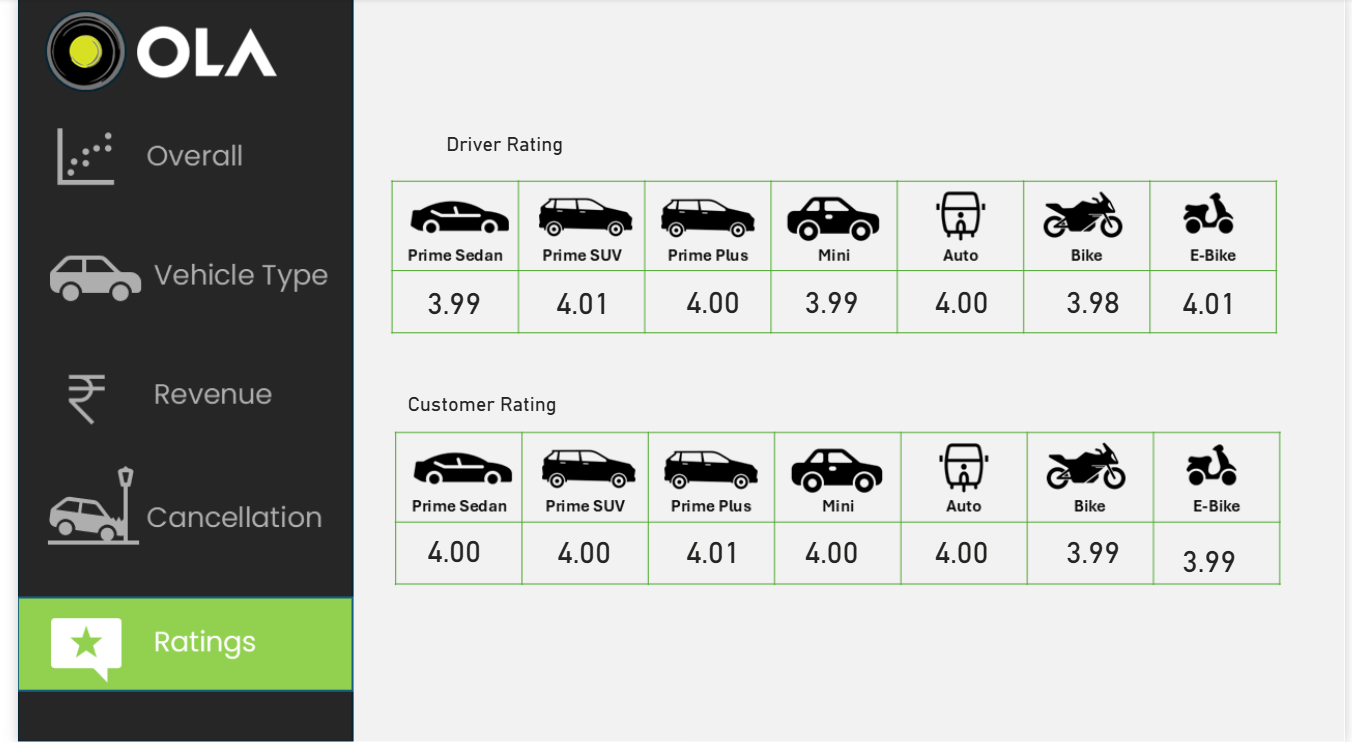

This screenshot's page, from the dashboard's own definition file:
{"tool":"powerbi","page":{"name":"Ratings","canvas":[1280,720],"ordinal":4},"visuals":[{"type":"actionButton","box":[0,337.2,324.4,87.2],"z":0},{"type":"actionButton","box":[0,109,324.4,87.2],"z":1000},{"type":"actionButton","box":[0,219.2,324.4,91],"z":2000},{"type":"actionButton","box":[0,446.2,324.4,87.2],"z":3000},{"type":"card","title":"Total Revenue","fields":{"Values":["Avg(Bookings-100000-Rows.Driver_Ratings)"]},"box":[358.9,264.4,125.6,58.9],"z":3001},{"type":"card","title":"Total Revenue","fields":{"Values":["Avg(Bookings-100000-Rows.Driver_Ratings)"]},"box":[482.9,264.3,125.7,58.6],"z":3002},{"type":"card","title":"Total Revenue","fields":{"Values":["Avg(Bookings-100000-Rows.Driver_Ratings)"]},"box":[608.6,262.9,125.7,58.6],"z":3003},{"type":"card","title":"Total Revenue","fields":{"Values":["Avg(Bookings-100000-Rows.Driver_Ratings)"]},"box":[722.9,262.9,125.7,58.6],"z":3004},{"type":"card","title":"Total Revenue","fields":{"Values":["Avg(Bookings-100000-Rows.Driver_Ratings)"]},"box":[848.6,262.9,125.7,58.6],"z":3005},{"type":"card","title":"Total Revenue","fields":{"Values":["Avg(Bookings-100000-Rows.Driver_Ratings)"]},"box":[974.3,262.9,125.7,58.6],"z":3006},{"type":"card","title":"Total Revenue","fields":{"Values":["Avg(Bookings-100000-Rows.Driver_Ratings)"]},"box":[1087.1,264.3,125.7,58.6],"z":3007},{"type":"card","title":"Total Revenue","fields":{"Values":["Avg(Bookings-100000-Rows.Customer_Rating)"]},"box":[358.6,502.9,125.7,58.6],"z":3008},{"type":"textbox","title":"Driver Rating","box":[358.6,130,222.9,22.9],"z":3009},{"type":"textbox","title":"Customer Rating","box":[337.1,381.4,222.9,22.9],"z":3010},{"type":"card","title":"Total Revenue","fields":{"Values":["Avg(Bookings-100000-Rows.Customer_Rating)"]},"box":[484.3,504.3,125.7,58.6],"z":3011},{"type":"card","title":"Total Revenue","fields":{"Values":["Avg(Bookings-100000-Rows.Customer_Rating)"]},"box":[722.9,504.3,125.7,58.6],"z":3012},{"type":"card","title":"Total Revenue","fields":{"Values":["Avg(Bookings-100000-Rows.Customer_Rating)"]},"box":[848.6,504.3,125.7,58.6],"z":3013},{"type":"card","title":"Total Revenue","fields":{"Values":["Avg(Bookings-100000-Rows.Customer_Rating)"]},"box":[974.3,504.3,125.7,58.6],"z":3014},{"type":"card","title":"Total Revenue","fields":{"Values":["Avg(Bookings-100000-Rows.Customer_Rating)"]},"box":[1087.1,512.9,125.7,58.6],"z":3015},{"type":"card","title":"Total Revenue","fields":{"Values":["Avg(Bookings-100000-Rows.Customer_Rating)"]},"box":[608.6,504.3,125.7,58.6],"z":3016}]}

Visuals, with their boxes on the page's 1280x720 design canvas (x1, y1, x2, y2). These are canvas units, not pixel positions in the 1352x742 screenshot, which may show the page scaled, cropped or inside an application window:
actionButton: rect(0, 337, 324, 424)
actionButton: rect(0, 109, 324, 196)
actionButton: rect(0, 219, 324, 310)
actionButton: rect(0, 446, 324, 533)
"Total Revenue" card: rect(359, 264, 484, 323)
"Total Revenue" card: rect(483, 264, 609, 323)
"Total Revenue" card: rect(609, 263, 734, 322)
"Total Revenue" card: rect(723, 263, 849, 322)
"Total Revenue" card: rect(849, 263, 974, 322)
"Total Revenue" card: rect(974, 263, 1100, 322)
"Total Revenue" card: rect(1087, 264, 1213, 323)
"Total Revenue" card: rect(359, 503, 484, 562)
"Driver Rating" textbox: rect(359, 130, 582, 153)
"Customer Rating" textbox: rect(337, 381, 560, 404)
"Total Revenue" card: rect(484, 504, 610, 563)
"Total Revenue" card: rect(723, 504, 849, 563)
"Total Revenue" card: rect(849, 504, 974, 563)
"Total Revenue" card: rect(974, 504, 1100, 563)
"Total Revenue" card: rect(1087, 513, 1213, 572)
"Total Revenue" card: rect(609, 504, 734, 563)
